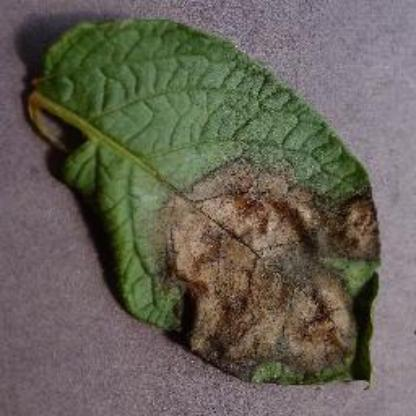Late-Blight: (15, 13, 387, 393)
